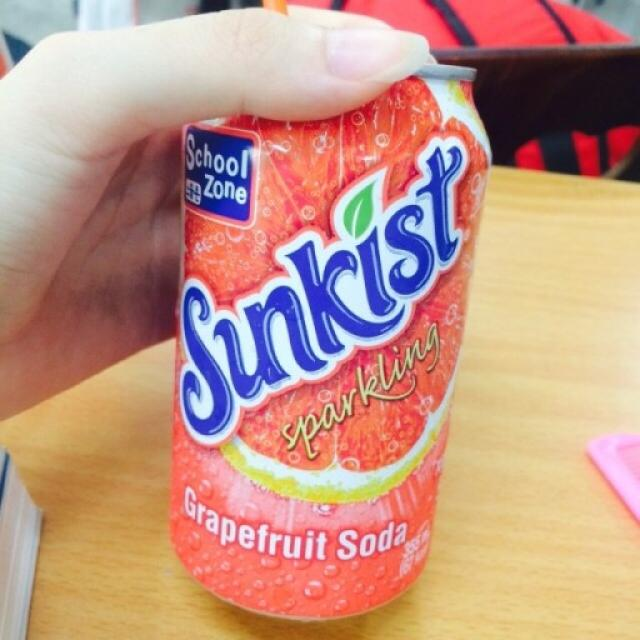Cans: (148, 17, 498, 632)
